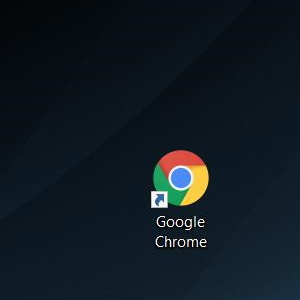chrome: (150, 150, 209, 209)
